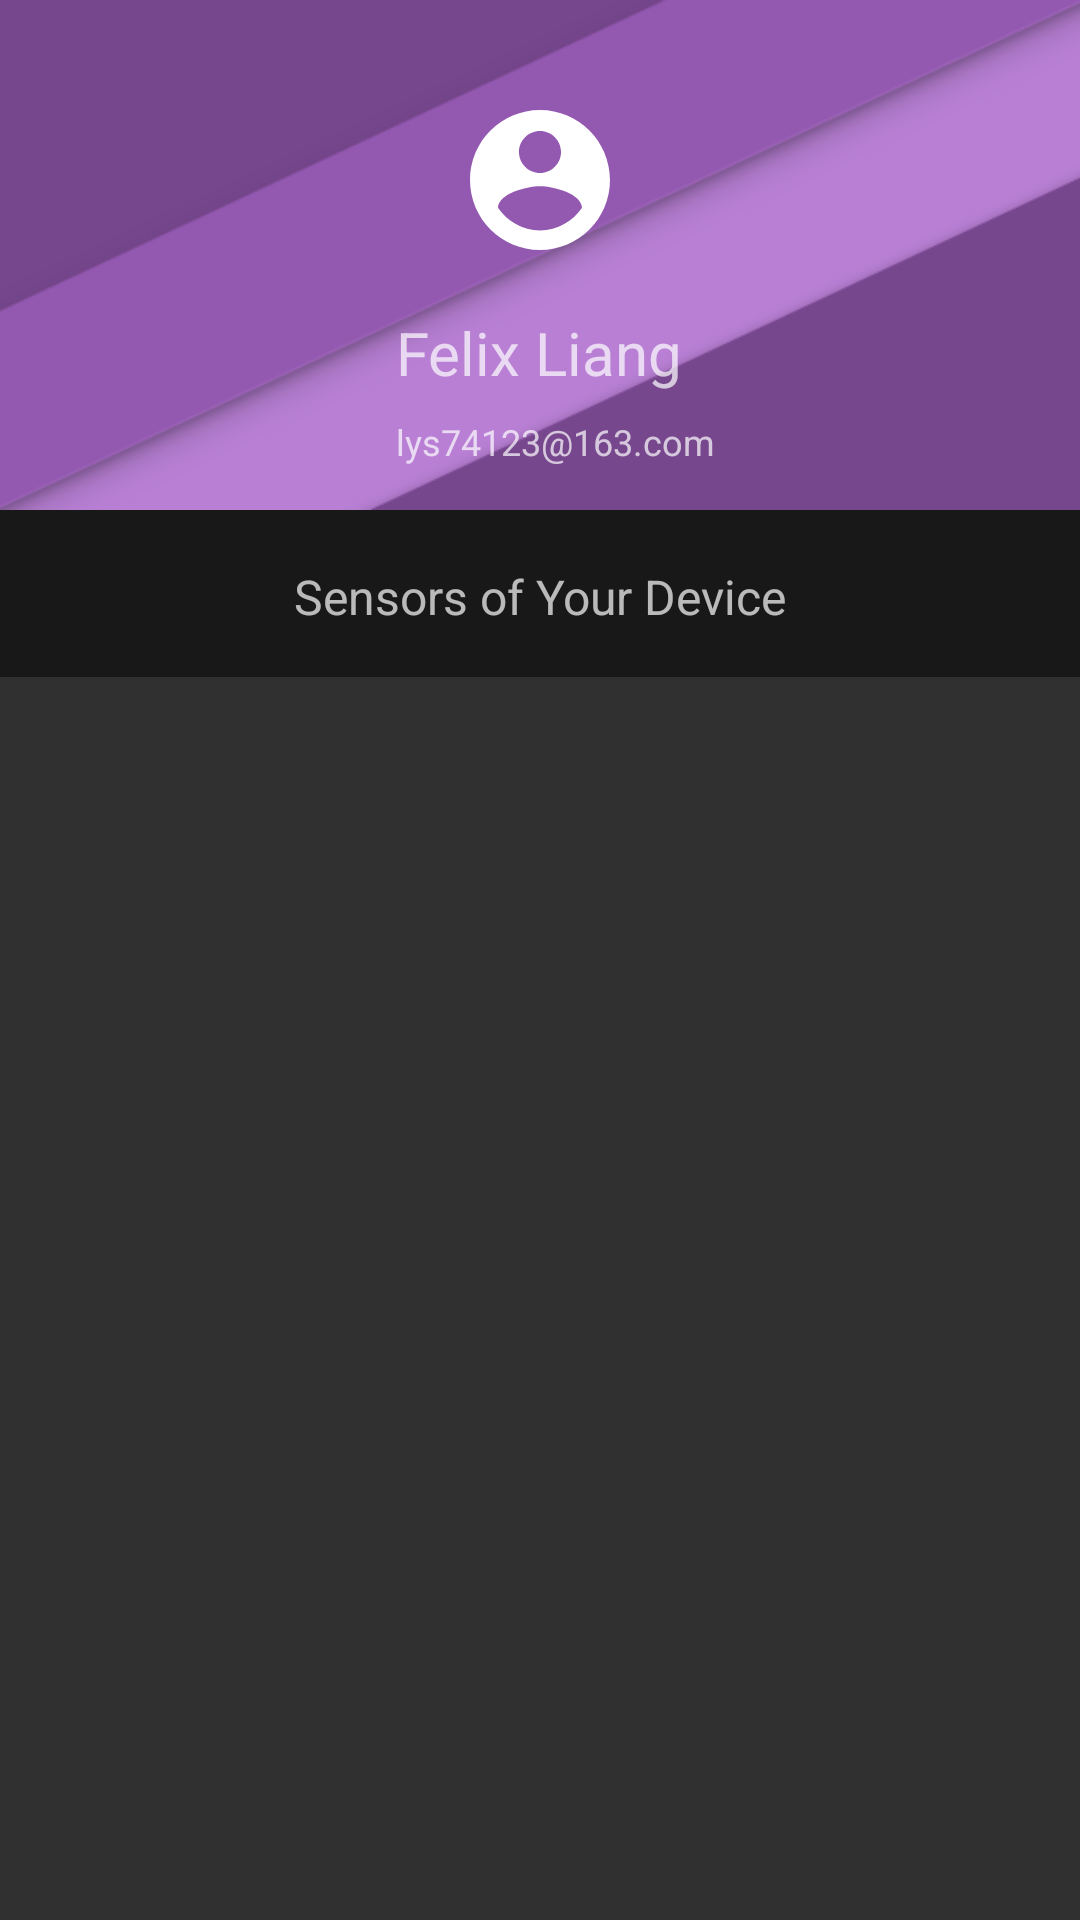

Named icons in this screenshot (1080×1920) and their centers, (x=x, y=y):
photo: (x=547, y=184)
